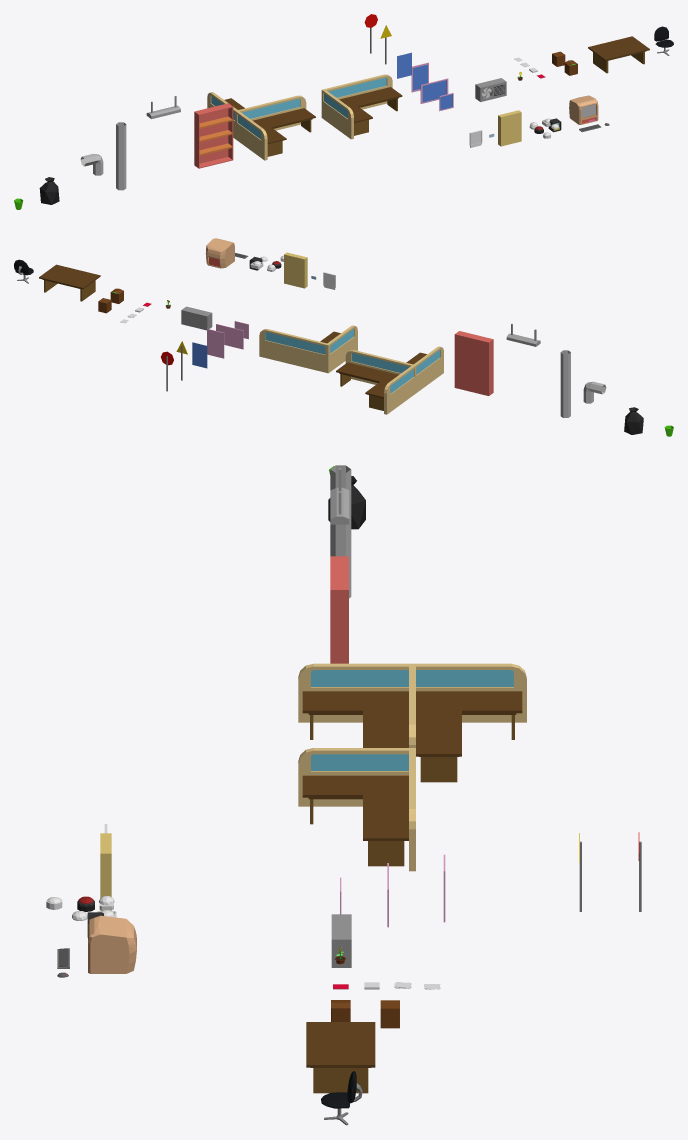
Rendered from Button.fbx.
3 views of the same model, one above another, from view 1: azimuth 30°, elevation 25°; view 2: azimuth 150°, elevation 25°; view 3: azimuth 270°, elevation 25° (orthographic). The views are drawn at different scales.
Visible parts, largest first — view 1: Desk_Double, Desk_Single, etagere, Table, Door, Tuyeau, Computer, Ventilation, Cadre_Large, Icosphere.004, Cadre_Tall, Tuyeau_Turn (+3 smaller); view 2: Desk_Double, Desk_Single, etagere, Table, Door, Computer, Tuyeau, Ventilation, Cadre_Tall, Cadre_Large, Icosphere.004, Poster (+1 smaller); view 3: Desk_Double, Desk_Single, Table, Computer, etagere, Tuyeau, Ventilation.
Part boxes in pixels (left/top/right/bottom): Desk_Double: left=207, top=92, right=315, bottom=160; Desk_Single: left=321, top=74, right=402, bottom=139; etagere: left=194, top=103, right=233, bottom=168; Table: left=588, top=36, right=649, bottom=73; Door: left=498, top=110, right=521, bottom=146; Tuyeau: left=116, top=122, right=126, bottom=190; Computer: left=569, top=95, right=598, bottom=124; Ventilation: left=475, top=78, right=506, bottom=101; Cadre_Large: left=420, top=78, right=448, bottom=103; Icosphere.004: left=39, top=177, right=59, bottom=204; Cadre_Tall: left=411, top=62, right=428, bottom=92; Tuyeau_Turn: left=80, top=153, right=103, bottom=175; Desk_Double: left=336, top=346, right=443, bottom=414; Desk_Single: left=259, top=325, right=357, bottom=373; etagere: left=454, top=331, right=493, bottom=395; Table: left=39, top=264, right=100, bottom=301; Door: left=284, top=252, right=307, bottom=288; Computer: left=205, top=238, right=234, bottom=268; Tuyeau: left=560, top=350, right=570, bottom=417; Ventilation: left=181, top=306, right=212, bottom=330; Cadre_Tall: left=207, top=328, right=224, bottom=358; Cadre_Large: left=216, top=324, right=243, bottom=349; Icosphere.004: left=624, top=407, right=643, bottom=434; Poster: left=192, top=342, right=207, bottom=368; Desk_Double: left=298, top=663, right=526, bottom=782; Desk_Single: left=298, top=748, right=415, bottom=871; Table: left=306, top=1022, right=375, bottom=1093; Computer: left=88, top=915, right=136, bottom=973; etagere: left=330, top=556, right=348, bottom=663; Tuyeau: left=330, top=465, right=351, bottom=598; Ventilation: left=331, top=914, right=351, bottom=967.
Size of the model in its own units: 6804 by 786 by 2676.
